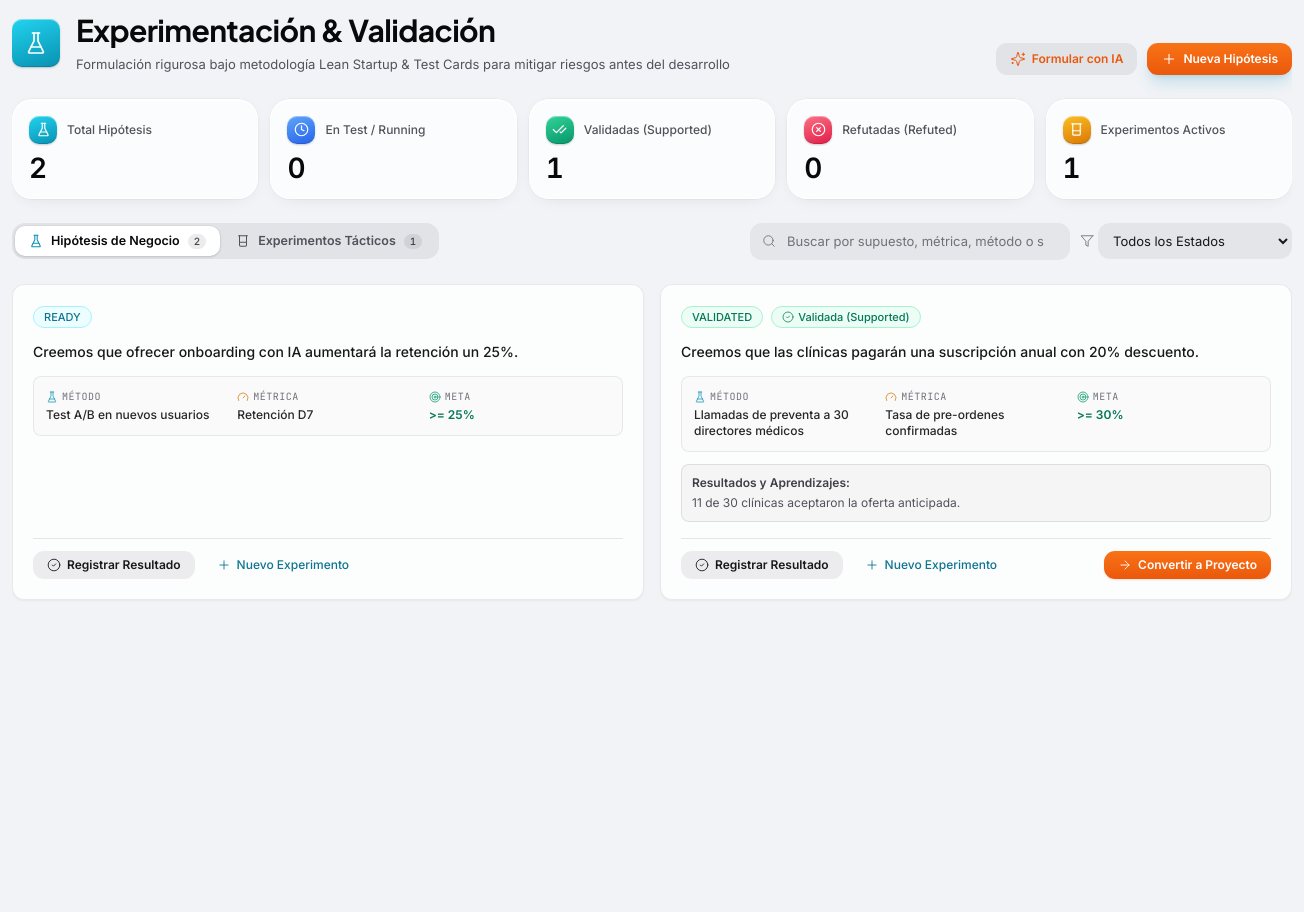
it: HypothesesPage › convierte una hipótesis validada a proyecto y muestra el banner de confirmación
Click the button "Convertir a Proyecto" at point(1188, 565), box left=1104, top=551, right=1271, bottom=579
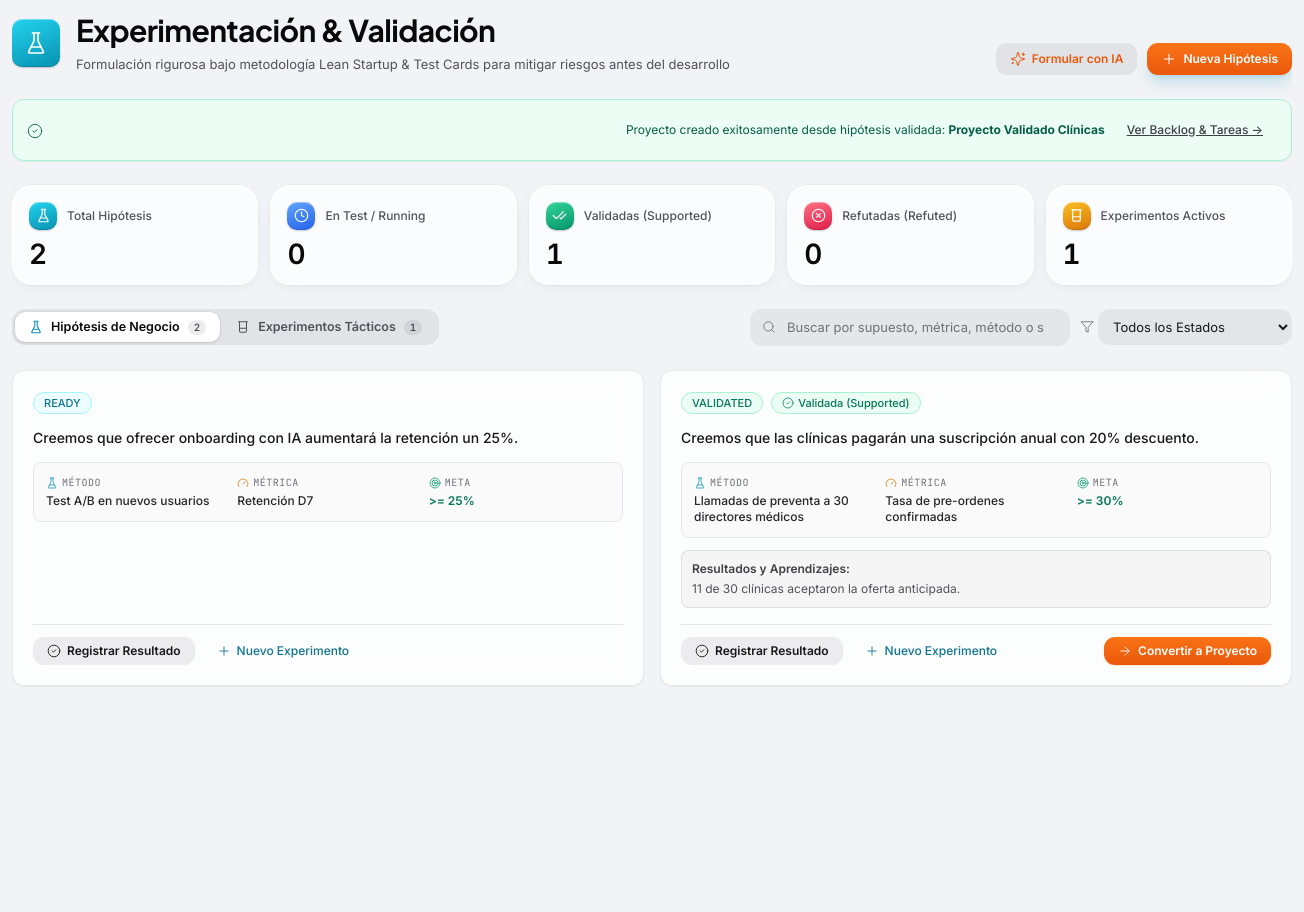
Check: the text "Proyecto creado exitosamente desde hipótesis validada" is shown, box left=626, top=122, right=948, bottom=137
